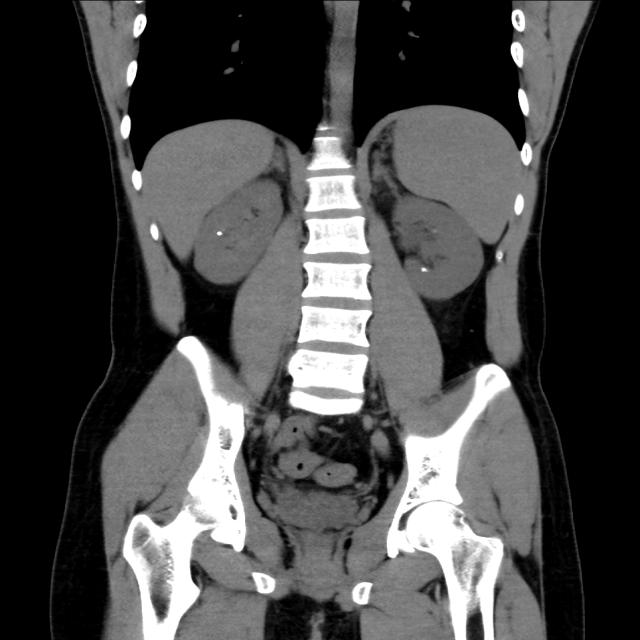kidneystone: (216, 231, 223, 236), (421, 268, 429, 272)
